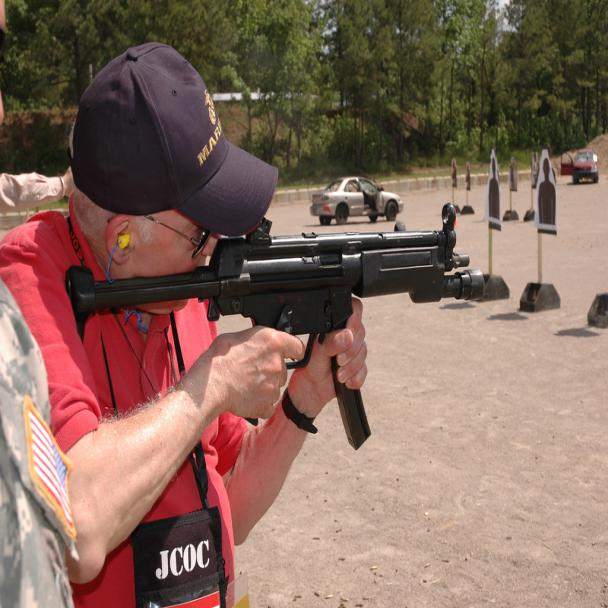Gun: (59, 201, 490, 370)
Hand: (99, 328, 314, 473), (287, 295, 382, 438)
